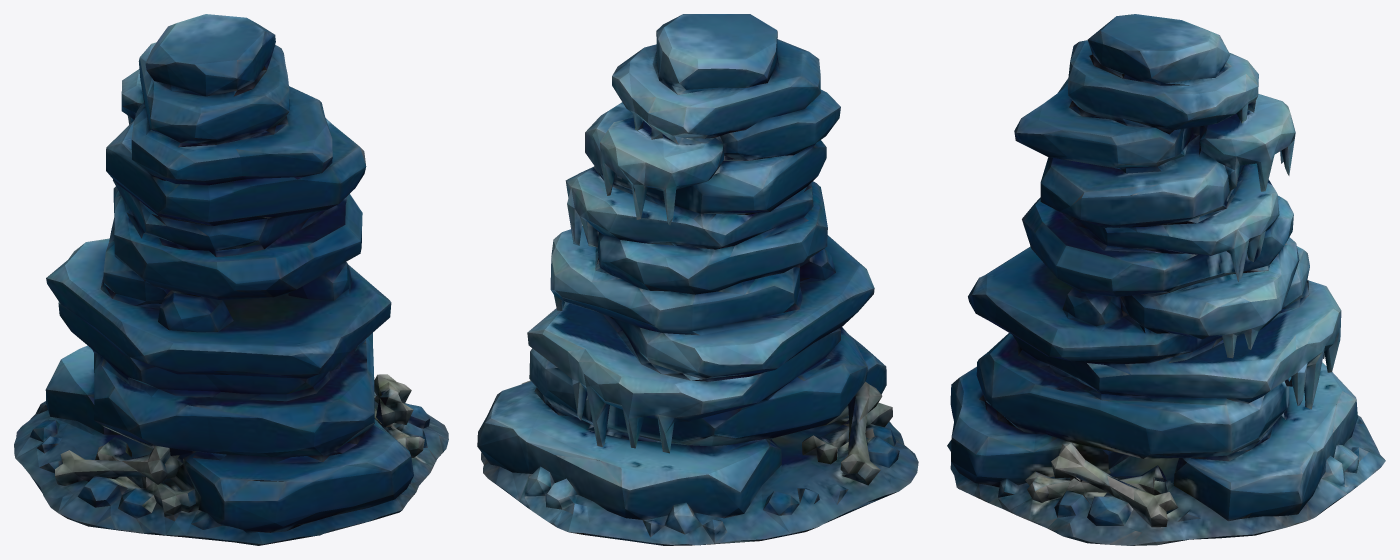
Rendered from frozen_cairn.glb.
The picture shows the model from 3 angles, left to right: view 1: azimuth 30°, elevation 25°; view 2: azimuth 150°, elevation 25°; view 3: azimuth 270°, elevation 25°; orthographic projection. The views are drawn at different scales.
Visible parts, largest first — view 1: tripo_node_a48e6f19-b6a4-4ea2-870d-0368a0290a36.001; view 2: tripo_node_a48e6f19-b6a4-4ea2-870d-0368a0290a36.001; view 3: tripo_node_a48e6f19-b6a4-4ea2-870d-0368a0290a36.001.
Boxes of the visible parts, <box> form: tripo_node_a48e6f19-b6a4-4ea2-870d-0368a0290a36.001: <box>14,14,448,545</box>; tripo_node_a48e6f19-b6a4-4ea2-870d-0368a0290a36.001: <box>477,14,918,545</box>; tripo_node_a48e6f19-b6a4-4ea2-870d-0368a0290a36.001: <box>947,14,1385,545</box>.
Size of the model in its own units: 0.9384 by 0.9995 by 0.9524.
Materials: 1 (1 with a texture image).
